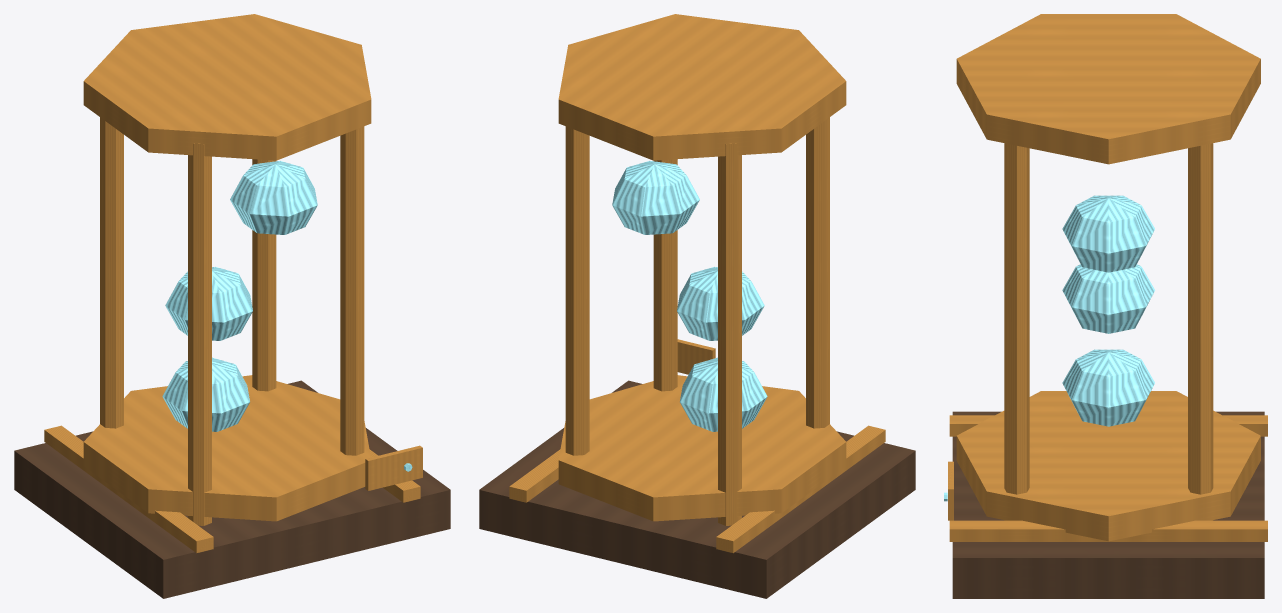
File: atlas100-s014-a01.lod1.glb
3 views of the same model, side by side, from view 1: azimuth 30°, elevation 25°; view 2: azimuth 150°, elevation 25°; view 3: azimuth 270°, elevation 25° (orthographic). The views are drawn at different scales.
Parts seen in each view (by area): view 1: atlas100-s014-a01:part-004, atlas100-s014-a01:part-000, atlas100-s014-a01:part-003, atlas100-s014-a01:part-007, atlas100-s014-a01:part-005, atlas100-s014-a01:part-009, atlas100-s014-a01:part-015, atlas100-s014-a01:part-011, atlas100-s014-a01:part-014, atlas100-s014-a01:part-013, atlas100-s014-a01:part-001, atlas100-s014-a01:part-016 (+1 smaller); view 2: atlas100-s014-a01:part-004, atlas100-s014-a01:part-000, atlas100-s014-a01:part-003, atlas100-s014-a01:part-009, atlas100-s014-a01:part-011, atlas100-s014-a01:part-007, atlas100-s014-a01:part-015, atlas100-s014-a01:part-005, atlas100-s014-a01:part-014, atlas100-s014-a01:part-013, atlas100-s014-a01:part-001, atlas100-s014-a01:part-002 (+1 smaller); view 3: atlas100-s014-a01:part-004, atlas100-s014-a01:part-003, atlas100-s014-a01:part-000, atlas100-s014-a01:part-011, atlas100-s014-a01:part-005, atlas100-s014-a01:part-015, atlas100-s014-a01:part-013, atlas100-s014-a01:part-002, atlas100-s014-a01:part-014, atlas100-s014-a01:part-001.
Part boxes in pixels (bbox=[...]): atlas100-s014-a01:part-004: bbox=[83, 14, 371, 160]; atlas100-s014-a01:part-000: bbox=[14, 380, 450, 598]; atlas100-s014-a01:part-003: bbox=[83, 375, 370, 521]; atlas100-s014-a01:part-007: bbox=[188, 143, 211, 525]; atlas100-s014-a01:part-005: bbox=[340, 126, 364, 455]; atlas100-s014-a01:part-009: bbox=[100, 117, 123, 428]; atlas100-s014-a01:part-015: bbox=[230, 161, 317, 234]; atlas100-s014-a01:part-011: bbox=[252, 159, 276, 391]; atlas100-s014-a01:part-014: bbox=[165, 267, 252, 340]; atlas100-s014-a01:part-013: bbox=[162, 357, 249, 431]; atlas100-s014-a01:part-001: bbox=[44, 425, 213, 553]; atlas100-s014-a01:part-016: bbox=[365, 445, 422, 490]; atlas100-s014-a01:part-004: bbox=[558, 14, 846, 160]; atlas100-s014-a01:part-000: bbox=[479, 380, 915, 598]; atlas100-s014-a01:part-003: bbox=[558, 375, 846, 521]; atlas100-s014-a01:part-009: bbox=[718, 143, 741, 525]; atlas100-s014-a01:part-011: bbox=[565, 126, 589, 455]; atlas100-s014-a01:part-007: bbox=[806, 117, 829, 428]; atlas100-s014-a01:part-015: bbox=[612, 161, 699, 234]; atlas100-s014-a01:part-005: bbox=[653, 159, 677, 391]; atlas100-s014-a01:part-014: bbox=[677, 267, 764, 340]; atlas100-s014-a01:part-013: bbox=[680, 357, 767, 431]; atlas100-s014-a01:part-001: bbox=[716, 425, 885, 553]; atlas100-s014-a01:part-002: bbox=[509, 449, 560, 502]; atlas100-s014-a01:part-004: bbox=[956, 14, 1260, 164]; atlas100-s014-a01:part-003: bbox=[956, 391, 1260, 541]; atlas100-s014-a01:part-000: bbox=[952, 411, 1264, 598]; atlas100-s014-a01:part-011: bbox=[1188, 143, 1213, 520]; atlas100-s014-a01:part-005: bbox=[1004, 143, 1029, 520]; atlas100-s014-a01:part-015: bbox=[1062, 195, 1154, 272]; atlas100-s014-a01:part-013: bbox=[1062, 349, 1154, 426]; atlas100-s014-a01:part-002: bbox=[949, 520, 1267, 541]; atlas100-s014-a01:part-014: bbox=[1062, 264, 1154, 333]; atlas100-s014-a01:part-001: bbox=[949, 415, 1267, 436].
Size of the model in its own units: 2 by 2.88 by 1.87.
3 materials, 3 textured.
